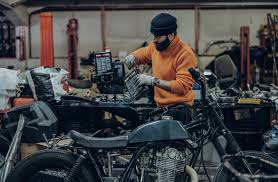motorcycle: (1, 52, 275, 182)
